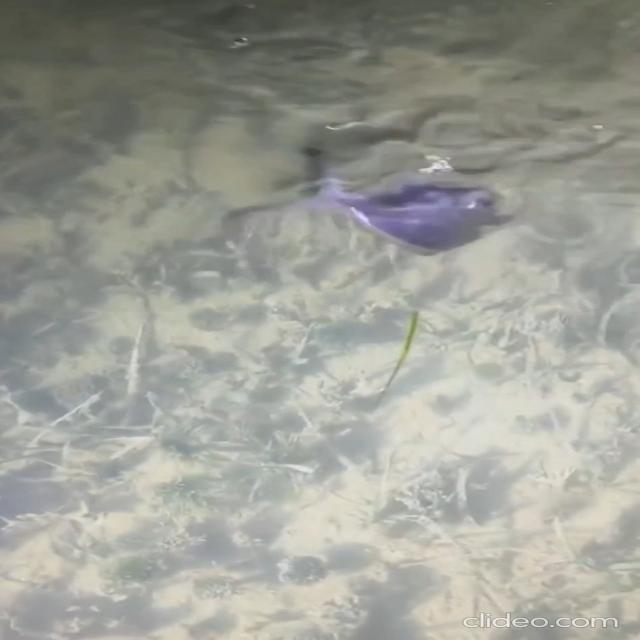fish: (297, 161, 557, 283)
